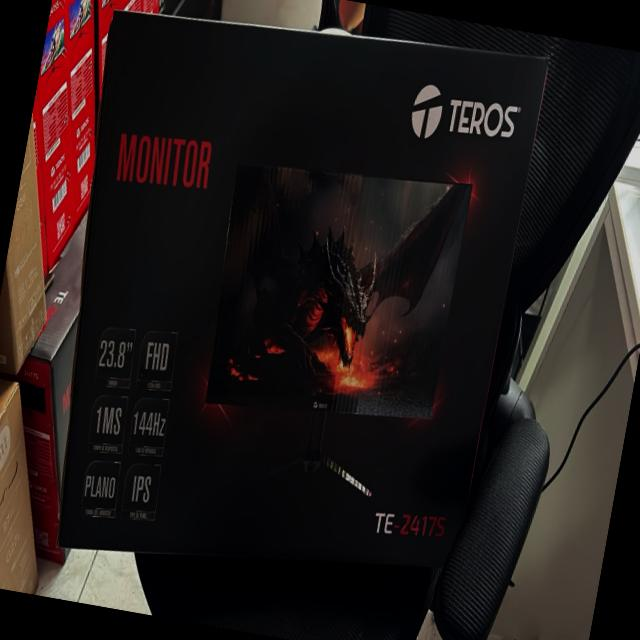caja-monitor: (59, 12, 544, 567)
